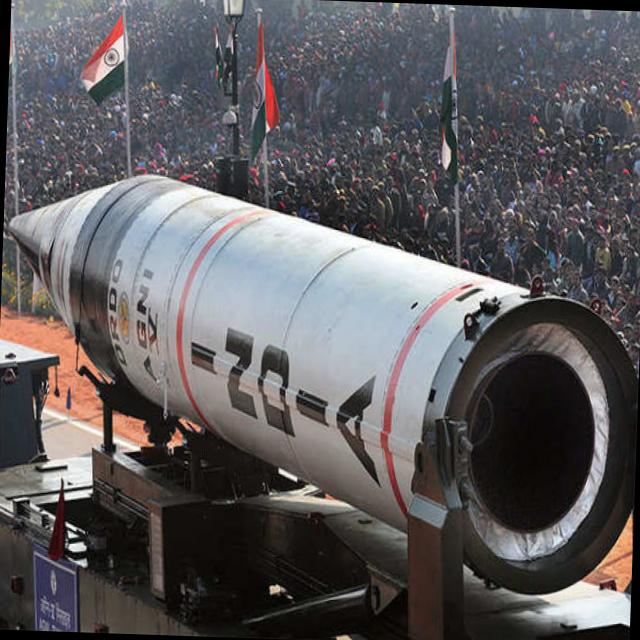rocket: (32, 159, 638, 590)
